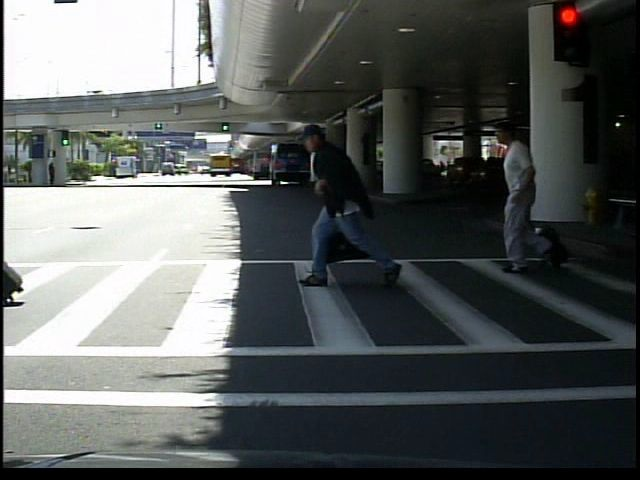person: (301, 116, 387, 290), (494, 112, 559, 271)
